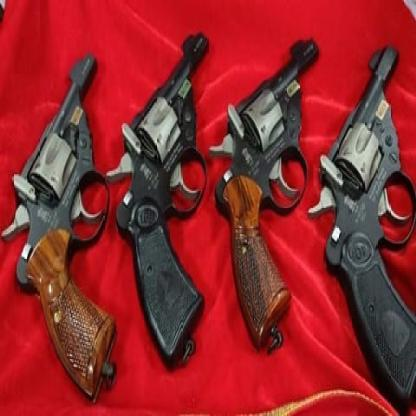handgun: (2, 51, 116, 406), (321, 43, 416, 408), (214, 36, 321, 349), (122, 41, 205, 366)
